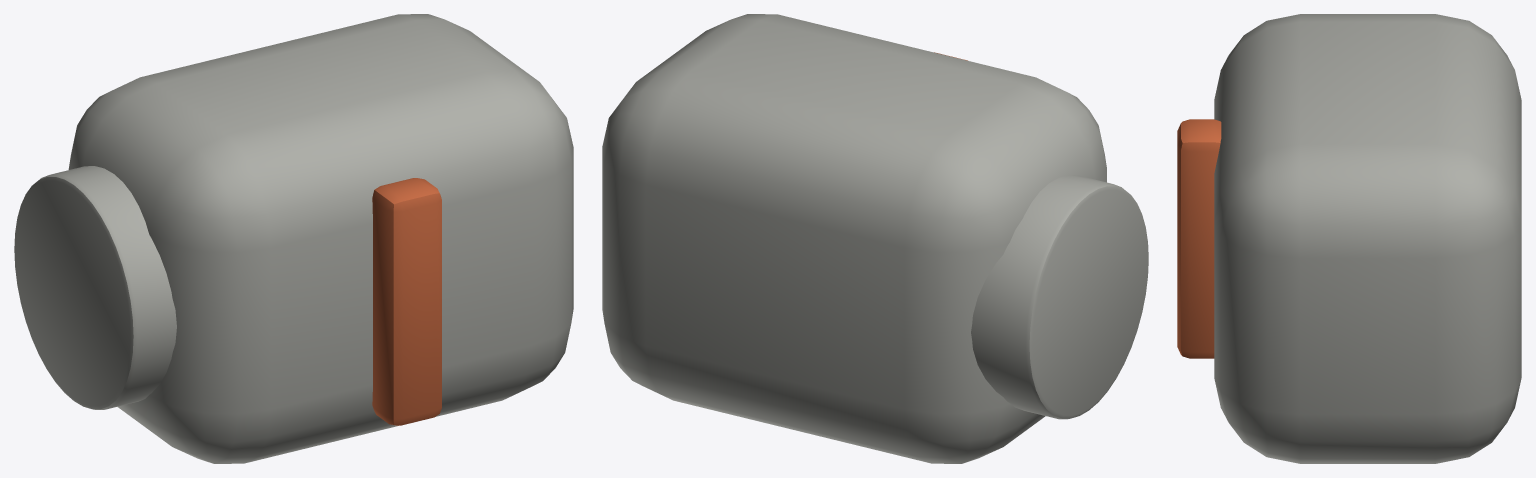
Rendered from random_orbit_sander_dust_box.glb.
The picture shows the model from 3 angles, left to right: view 1: azimuth 30°, elevation 25°; view 2: azimuth 150°, elevation 25°; view 3: azimuth 270°, elevation 25°; orthographic projection. The views are drawn at different scales.
Visible parts, largest first — view 1: random_orbit_sander_dust_box; view 2: random_orbit_sander_dust_box; view 3: random_orbit_sander_dust_box.
Boxes of the visible parts, x1,y1,x2,y2 form: random_orbit_sander_dust_box: (14, 14, 573, 463); random_orbit_sander_dust_box: (602, 14, 1148, 463); random_orbit_sander_dust_box: (1177, 14, 1521, 463).
Bounding box in the file's own units: 0.0815 × 0.056 × 0.056.
